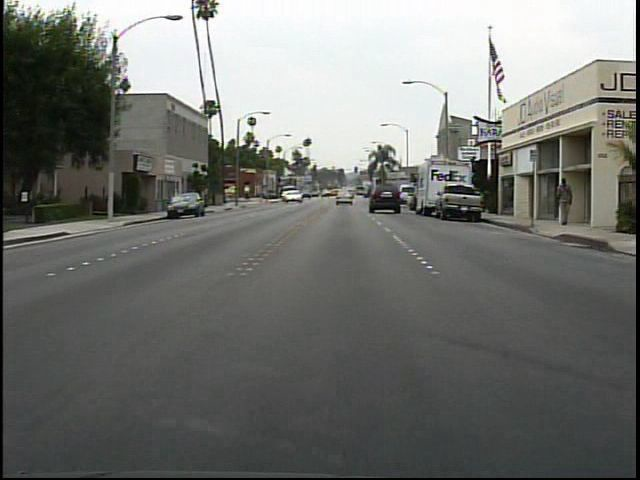person: (548, 173, 576, 229)
